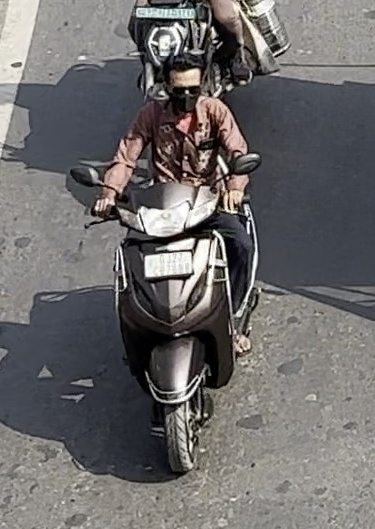BikeWithRider: (63, 41, 296, 477)
NoHelmet: (158, 48, 215, 116)
